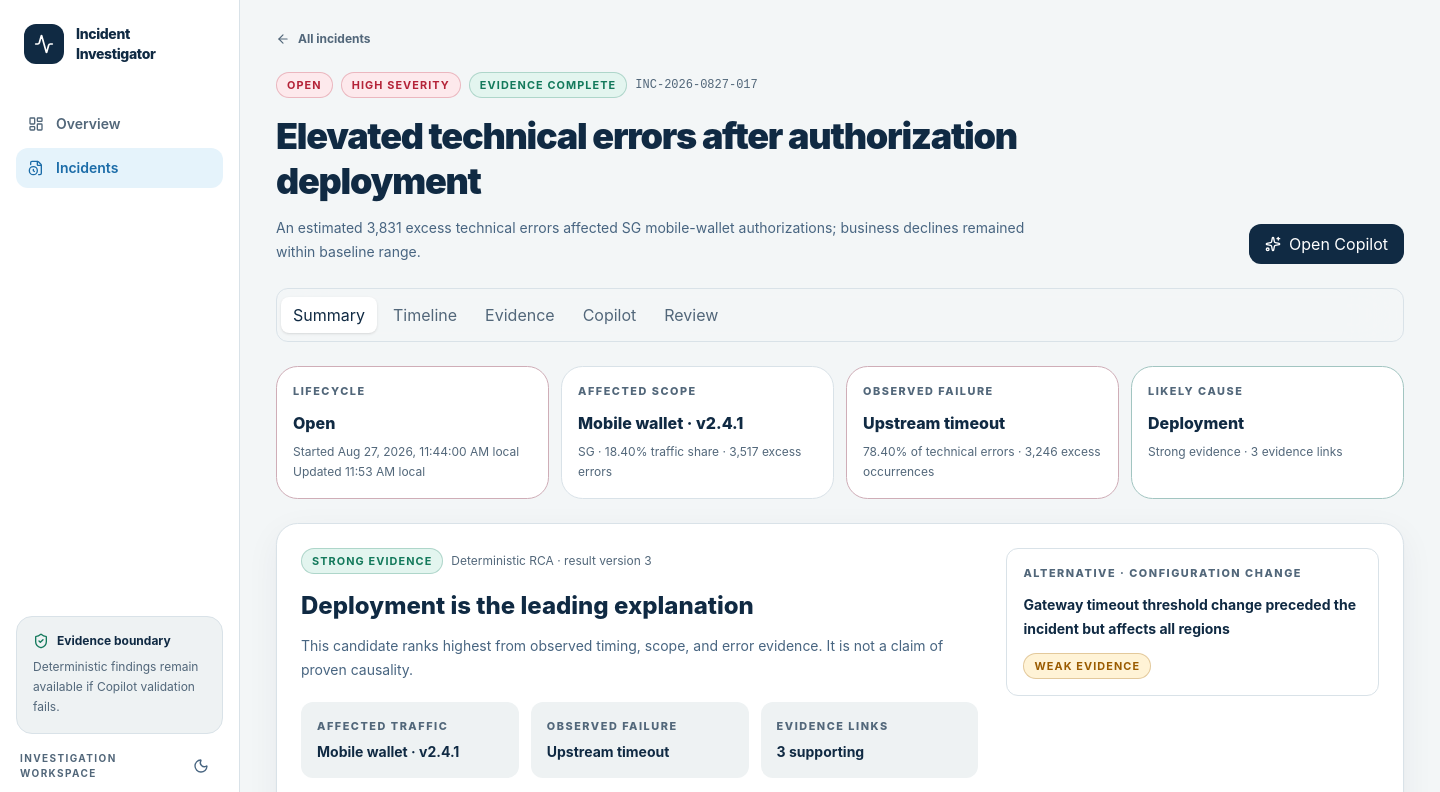
it: supports every approved feedback rating, optional tags, and an optional note
The width and height of the screenshot is (1440, 792).
Click the button "Open Copilot" at (1326, 244), box x1=1249 y1=224 x2=1404 y2=264
(page scrolled)
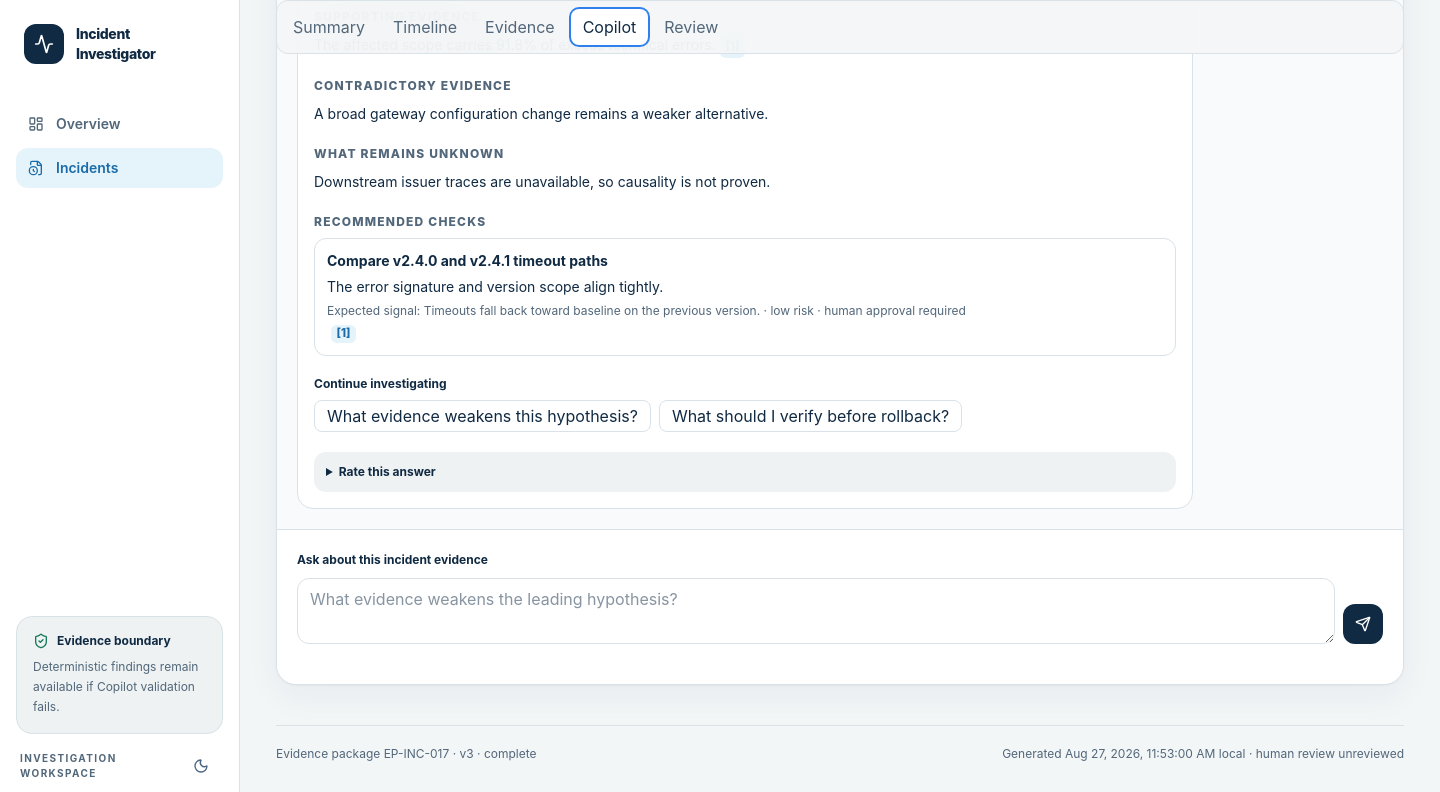
Click the heading "Rate this answer" at (387, 472), box x1=339 y1=464 x2=436 y2=480
(page scrolled)
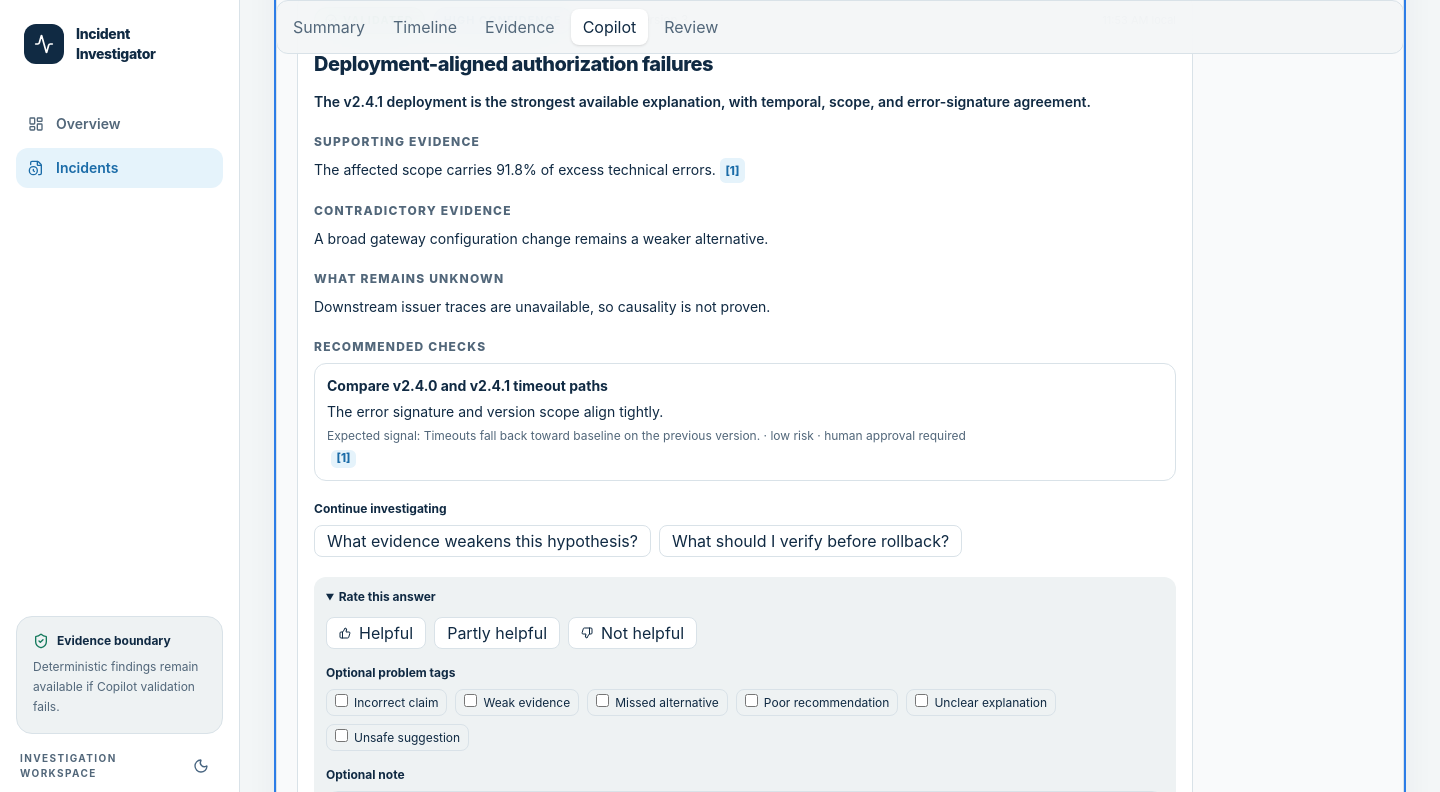
Expected: the button "Helpful" is shown, x1=326 y1=618 x2=426 y2=650
Expected: the button "Partly helpful" is shown, x1=434 y1=618 x2=560 y2=650
Expected: the button "Not helpful" is shown, x1=568 y1=618 x2=697 y2=650
Click the checkbox labelled "Weak evidence" at (471, 701), box x1=464 y1=694 x2=478 y2=708
(page scrolled)
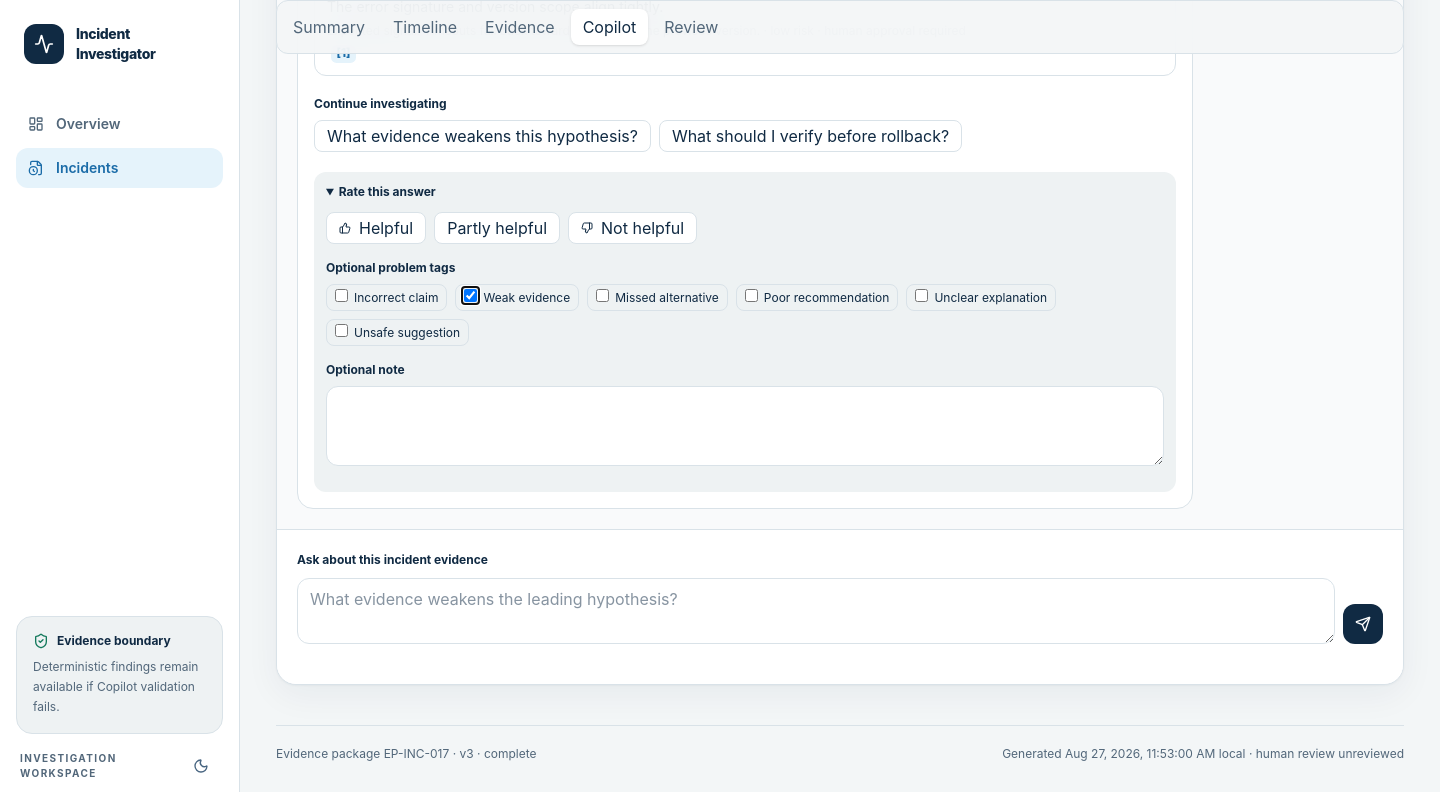
Type "Needs another comparison." into the text box labelled "Optional note" at (745, 426), box x1=326 y1=386 x2=1164 y2=466
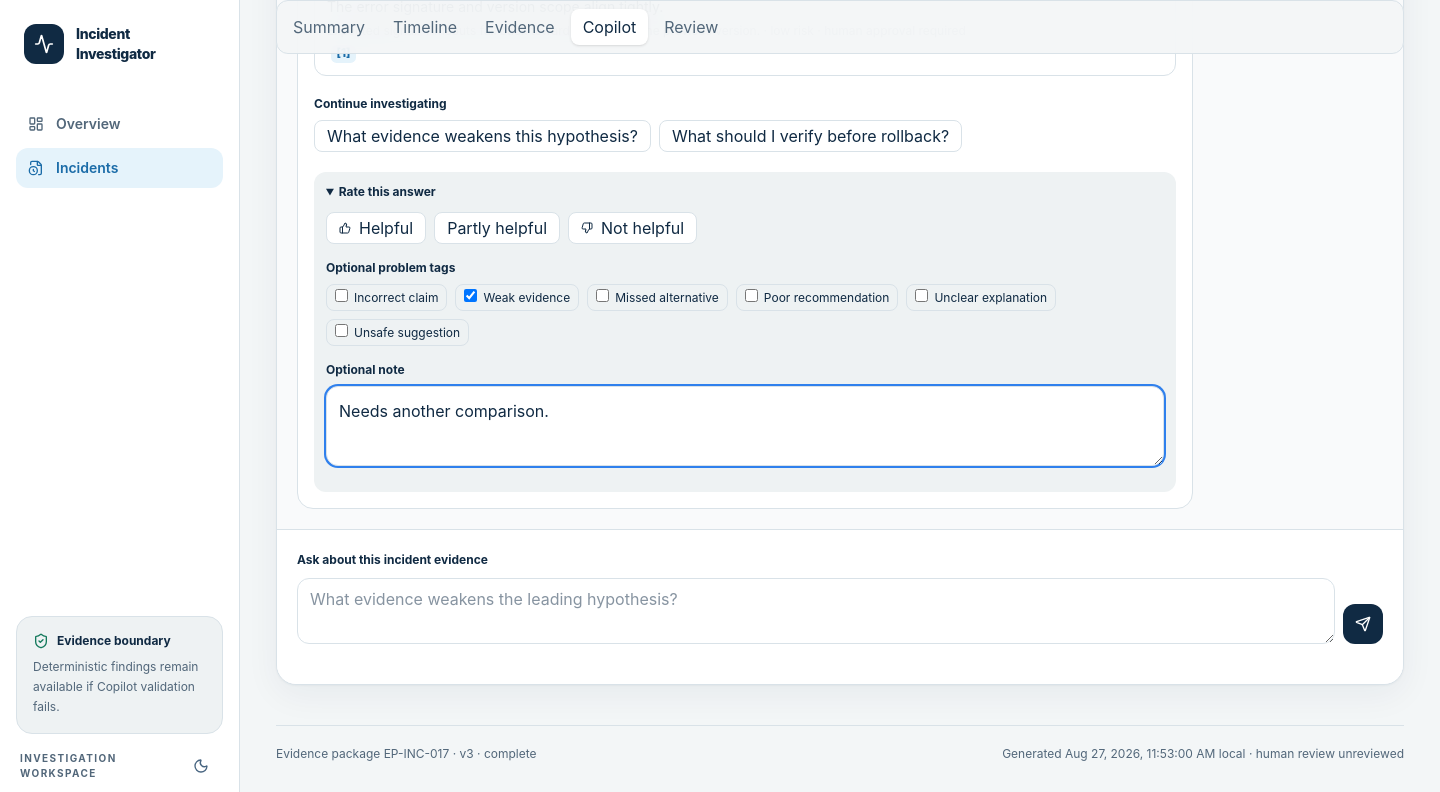
Click the button "Partly helpful" at (497, 228), box x1=434 y1=212 x2=560 y2=244
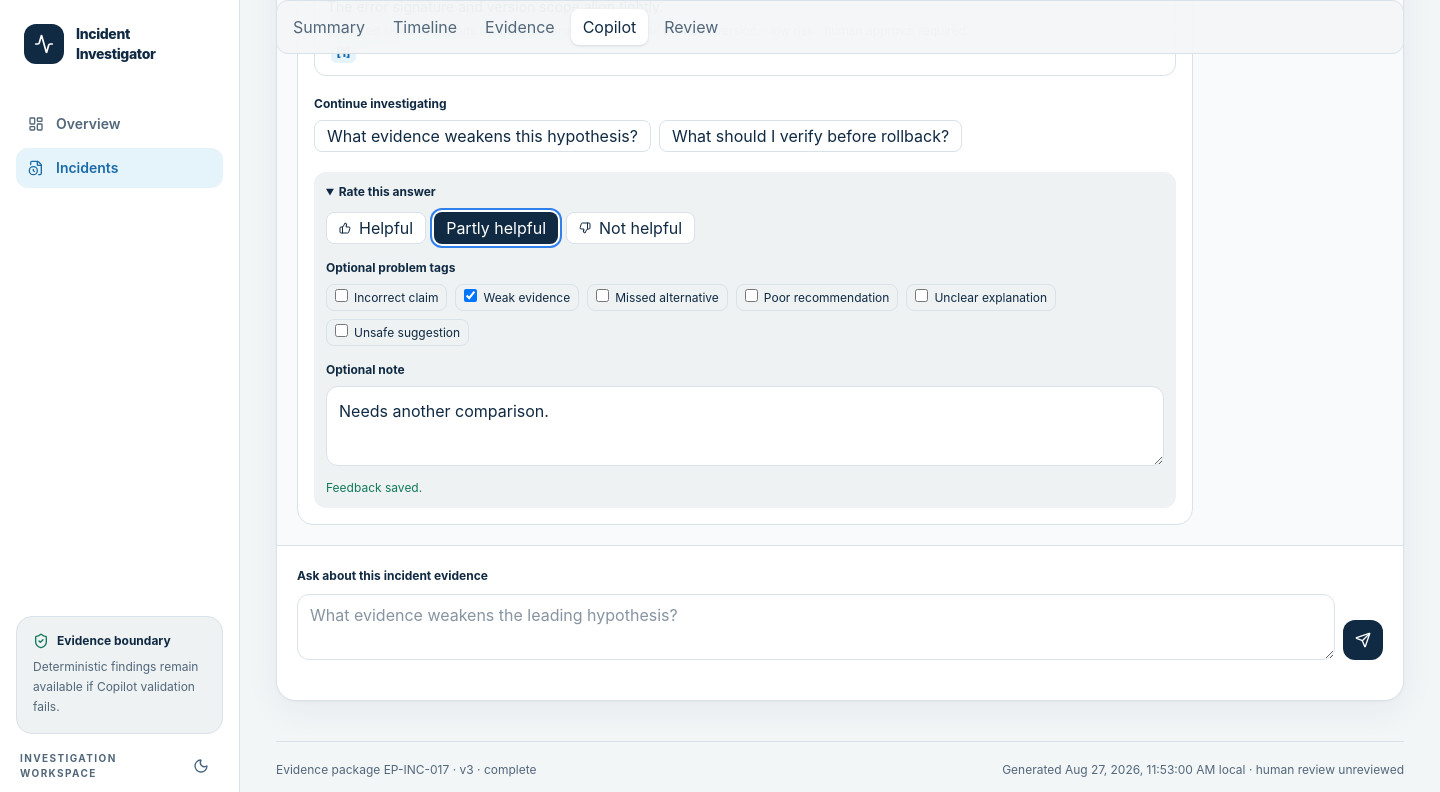
Expected: the text "Feedback saved." is shown, x1=326 y1=480 x2=422 y2=496
